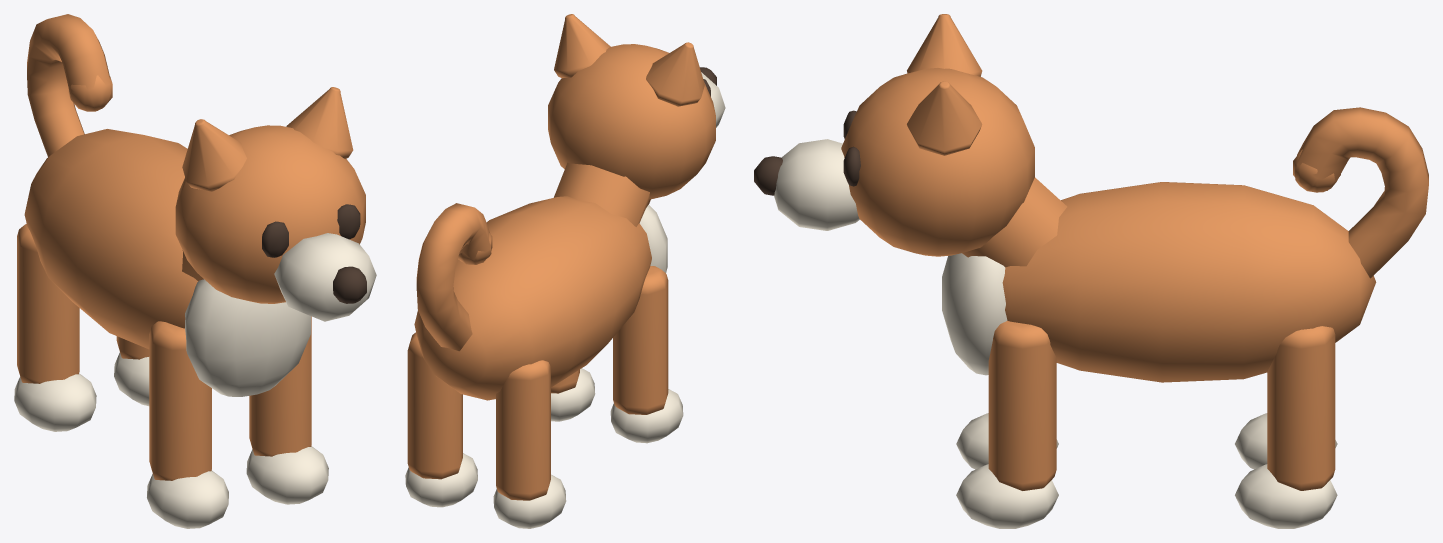
The model's file is pet_dog_ginger.glb.
3 views of the same model, side by side, from view 1: azimuth 30°, elevation 25°; view 2: azimuth 150°, elevation 25°; view 3: azimuth 270°, elevation 25° (orthographic). The views are drawn at different scales.
Parts seen in each view (by area): view 1: pet_dog_ginger_mesh, pet_dog_ginger_Head_mesh, pet_dog_ginger_LegFL_mesh, pet_dog_ginger_LegBL_mesh, pet_dog_ginger_Tail_mesh, pet_dog_ginger_LegFR_mesh, pet_dog_ginger_LegBR_mesh; view 2: pet_dog_ginger_mesh, pet_dog_ginger_Head_mesh, pet_dog_ginger_LegBL_mesh, pet_dog_ginger_LegFL_mesh, pet_dog_ginger_LegBR_mesh, pet_dog_ginger_Tail_mesh, pet_dog_ginger_LegFR_mesh; view 3: pet_dog_ginger_mesh, pet_dog_ginger_Head_mesh, pet_dog_ginger_LegFR_mesh, pet_dog_ginger_LegBR_mesh, pet_dog_ginger_Tail_mesh, pet_dog_ginger_LegBL_mesh, pet_dog_ginger_LegFL_mesh.
Part boxes in pixels (<box>): pet_dog_ginger_mesh: <box>24,129,310,396</box>; pet_dog_ginger_Head_mesh: <box>175,87,376,321</box>; pet_dog_ginger_LegFL_mesh: <box>147,321,228,528</box>; pet_dog_ginger_LegBL_mesh: <box>14,224,96,431</box>; pet_dog_ginger_Tail_mesh: <box>27,14,112,156</box>; pet_dog_ginger_LegFR_mesh: <box>246,316,328,504</box>; pet_dog_ginger_LegBR_mesh: <box>114,336,149,406</box>; pet_dog_ginger_mesh: <box>414,196,667,400</box>; pet_dog_ginger_Head_mesh: <box>548,14,725,226</box>; pet_dog_ginger_LegBL_mesh: <box>493,360,566,528</box>; pet_dog_ginger_LegFL_mesh: <box>610,266,683,443</box>; pet_dog_ginger_LegBR_mesh: <box>405,332,477,507</box>; pet_dog_ginger_Tail_mesh: <box>416,203,492,351</box>; pet_dog_ginger_LegFR_mesh: <box>551,368,595,421</box>; pet_dog_ginger_mesh: <box>942,182,1376,382</box>; pet_dog_ginger_Head_mesh: <box>754,14,1067,267</box>; pet_dog_ginger_LegFR_mesh: <box>956,321,1058,528</box>; pet_dog_ginger_LegBR_mesh: <box>1235,326,1337,528</box>; pet_dog_ginger_Tail_mesh: <box>1293,107,1428,278</box>; pet_dog_ginger_LegBL_mesh: <box>1235,413,1337,469</box>; pet_dog_ginger_LegFL_mesh: <box>956,413,1058,469</box>.
Bounding box in the file's own units: 0.17 × 0.3944 × 0.5354.
